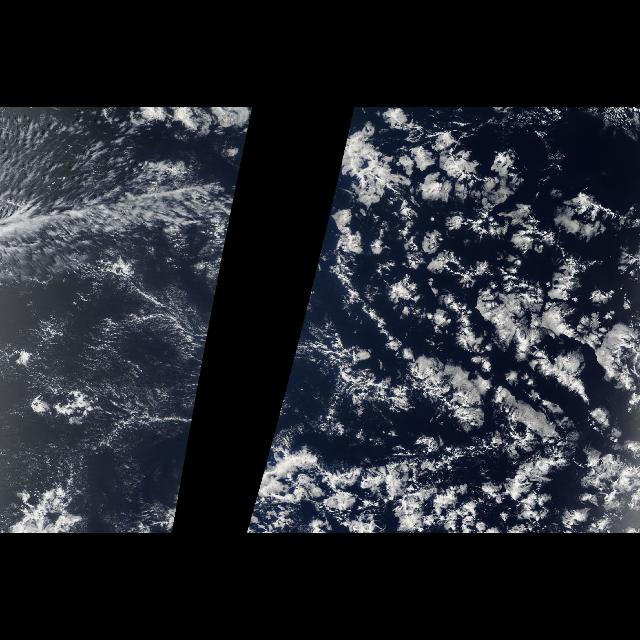Flower: (255, 112, 639, 532)
Sugar: (2, 139, 246, 531)
